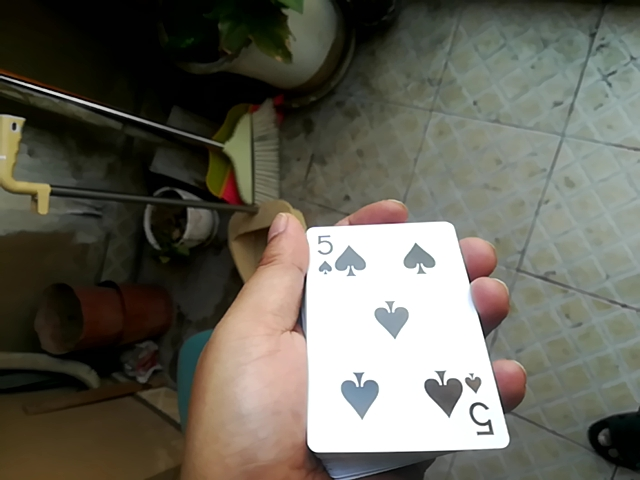ht 5: (299, 229, 501, 455)
